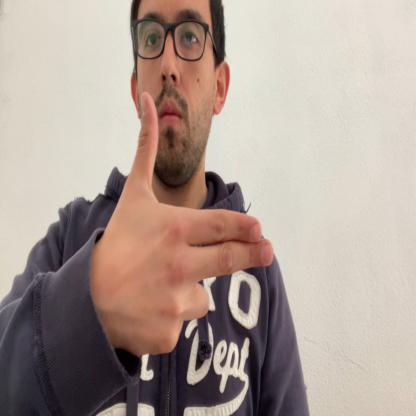H: (106, 89, 274, 355)
